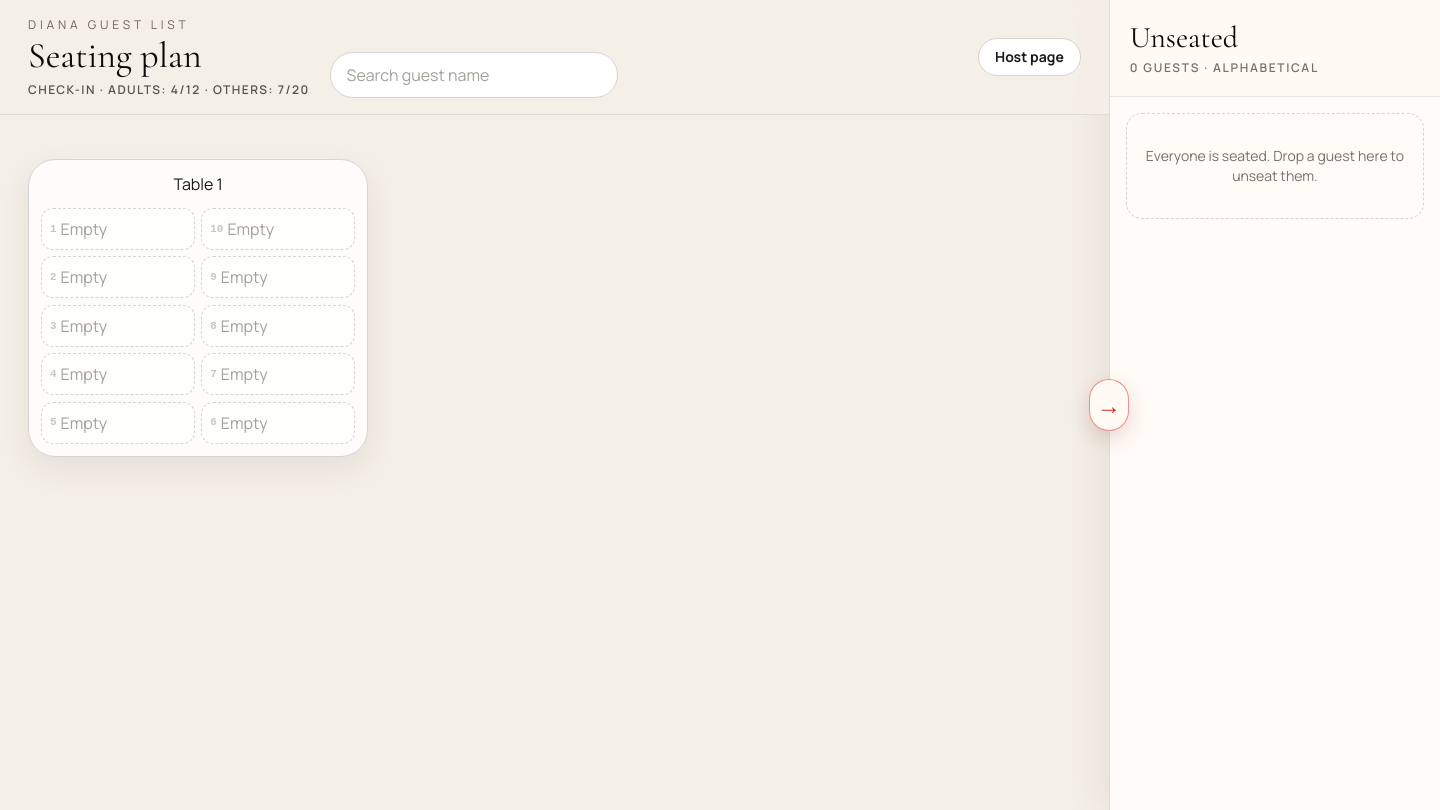
Test: SeatingPlanner › shows live check-in fractions and can collapse the guest list
Expected: the text "Check-in · Adults: 4/12 · Others: 7/20" is shown, 28,82 -> 310,98
Click the button named "Hide guest list".
click(1109, 405)  # box 1089,379 -> 1129,431
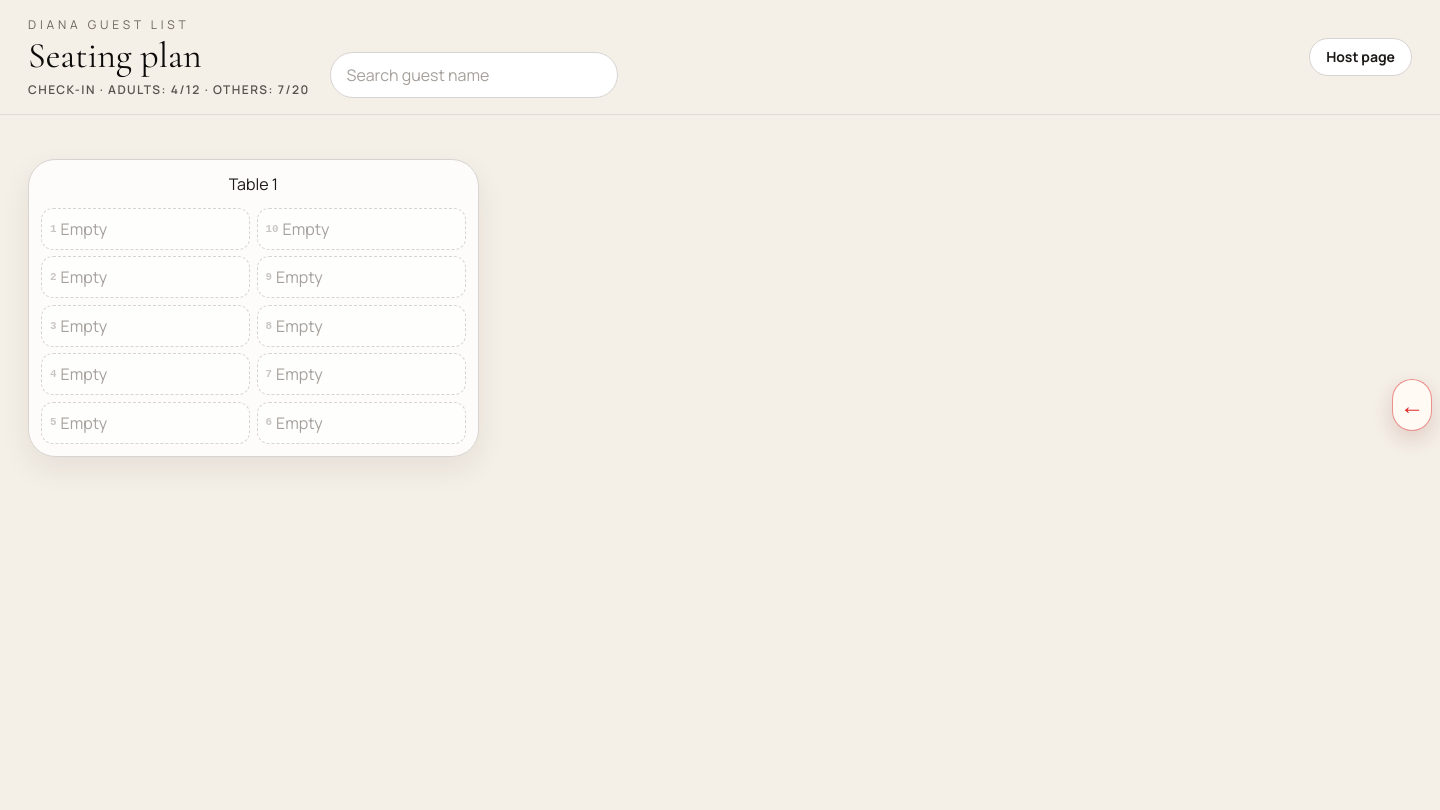
Now the button named "Show guest list" is collapsed, box 1392,379 -> 1432,431
